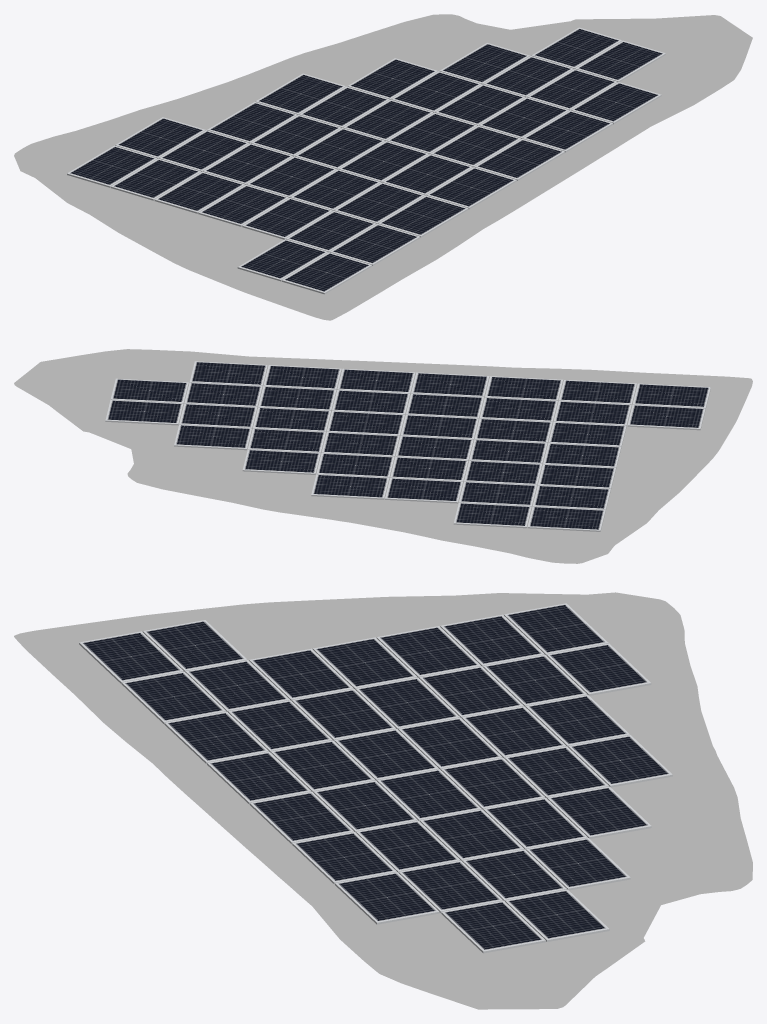
File: terrace_flat.glb
3 views of the same model, one above another, from view 1: azimuth 30°, elevation 25°; view 2: azimuth 150°, elevation 25°; view 3: azimuth 270°, elevation 25° (orthographic). The views are drawn at different scales.
Parts seen in each view (by area): view 1: RoofSolar; view 2: RoofSolar; view 3: RoofSolar.
Part boxes in pixels (x1,y1,x2,y2): RoofSolar: (14,14,752,320); RoofSolar: (14,349,752,563); RoofSolar: (14,592,752,1009).
Bounding box in the file's own units: 16.69 × 0.2507 × 12.24.
Materials: 3 (1 with a texture image).
